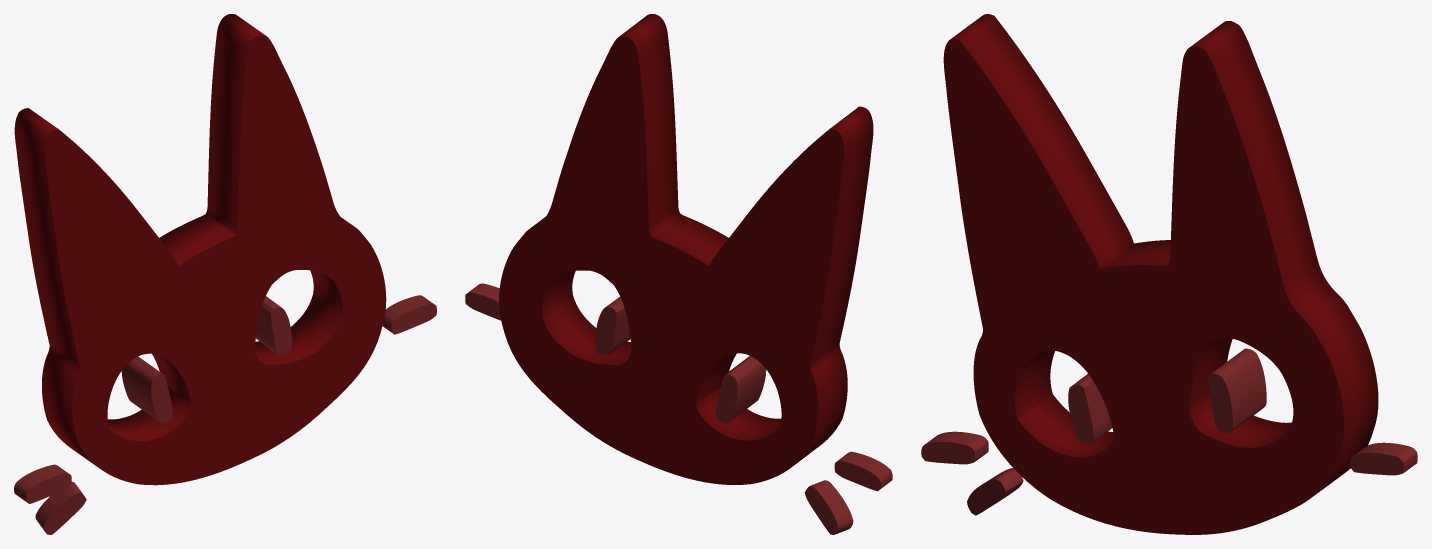
The model's file is freshlog4v.glb.
The picture shows the model from 3 angles, left to right: view 1: azimuth 30°, elevation 25°; view 2: azimuth 150°, elevation 25°; view 3: azimuth 330°, elevation 25°; orthographic projection. The views are drawn at different scales.
Visible parts, largest first — view 1: Curve, Curve.028, Curve.029, Curve.008, Curve.009, Curve.011; view 2: Curve, Curve.028, Curve.009, Curve.008, Curve.029, Curve.011; view 3: Curve, Curve.029, Curve.028, Curve.011, Curve.008, Curve.009.
Part boxes in pixels (x1,y1,x2,y2): Curve: [14, 14, 386, 485]; Curve.028: [121, 356, 172, 423]; Curve.029: [256, 296, 291, 355]; Curve.008: [14, 464, 71, 503]; Curve.009: [35, 481, 86, 534]; Curve.011: [382, 295, 436, 334]; Curve: [499, 14, 873, 484]; Curve.028: [715, 356, 766, 423]; Curve.009: [804, 480, 853, 534]; Curve.008: [834, 451, 892, 491]; Curve.029: [595, 297, 630, 355]; Curve.011: [465, 283, 500, 320]; Curve: [943, 14, 1378, 534]; Curve.029: [1208, 348, 1266, 433]; Curve.028: [1068, 374, 1112, 444]; Curve.011: [1350, 442, 1417, 475]; Curve.008: [921, 431, 988, 464]; Curve.009: [967, 468, 1023, 515].
Size of the model in its own units: 0.8925 by 0.9458 by 0.1207.
